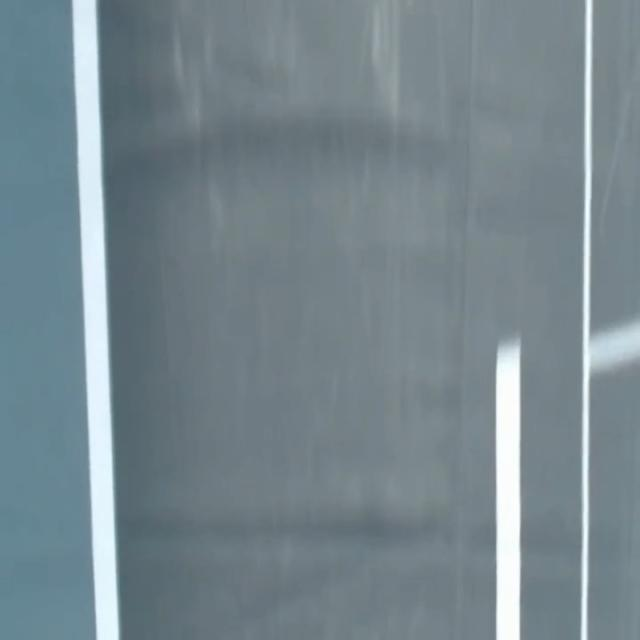center: (496, 340, 520, 639)
left: (72, 0, 119, 639)
